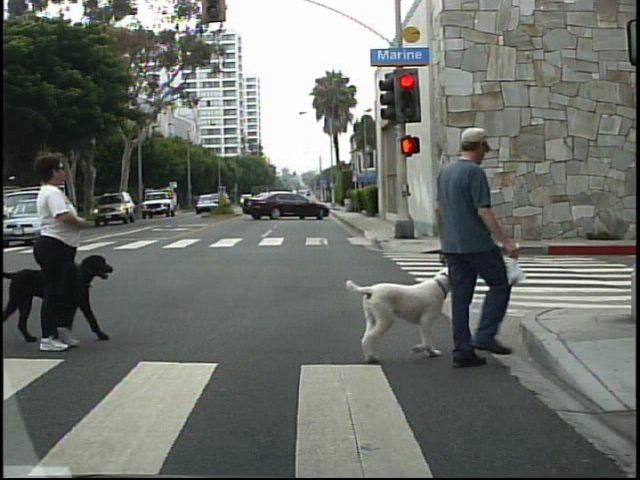person: (415, 117, 516, 373), (19, 153, 85, 357)
